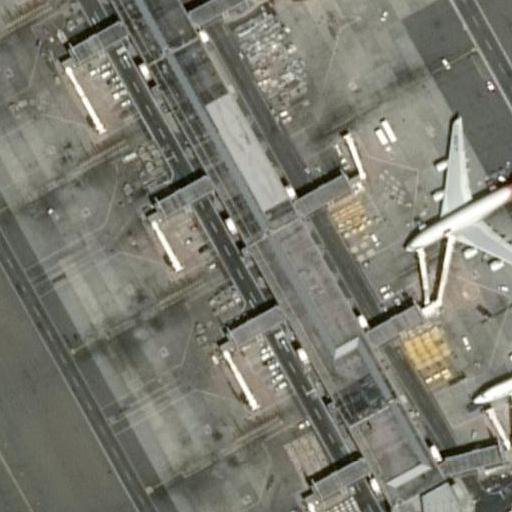Aircraft: (392, 106, 512, 280), (465, 278, 512, 432)
